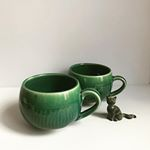cups: (16, 71, 103, 135), (68, 61, 129, 107)
